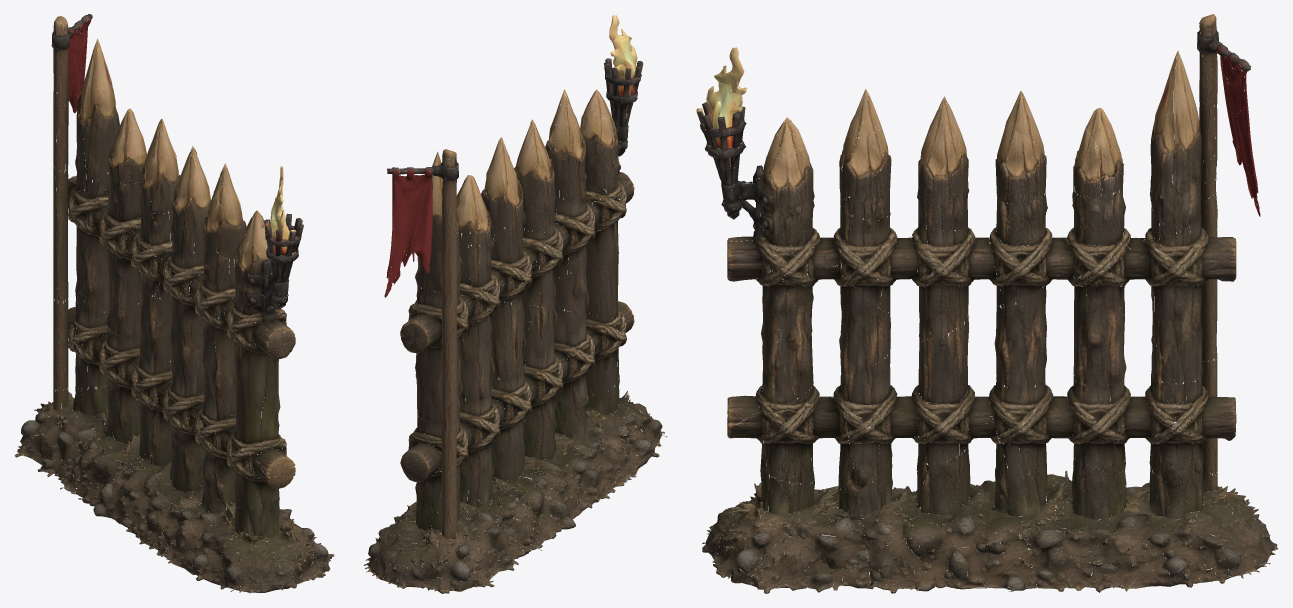
Rendered from palisade-tripo.glb.
3 renders of one model, left to right at view 1: azimuth 30°, elevation 25°; view 2: azimuth 150°, elevation 25°; view 3: azimuth 270°, elevation 25°, orthographic. The views are drawn at different scales.
Parts seen in each view (by area): view 1: tripo_node_b1b06502-4d1f-43a3-995a-0dcab4e0a633; view 2: tripo_node_b1b06502-4d1f-43a3-995a-0dcab4e0a633; view 3: tripo_node_b1b06502-4d1f-43a3-995a-0dcab4e0a633.
Part boxes in pixels (x1,y1,x2,y2): tripo_node_b1b06502-4d1f-43a3-995a-0dcab4e0a633: [14, 14, 334, 593]; tripo_node_b1b06502-4d1f-43a3-995a-0dcab4e0a633: [363, 15, 666, 593]; tripo_node_b1b06502-4d1f-43a3-995a-0dcab4e0a633: [696, 14, 1278, 593].
Bounding box in the file's own units: 0.3425 × 0.9959 × 0.9997.
1 material, 1 textured.
